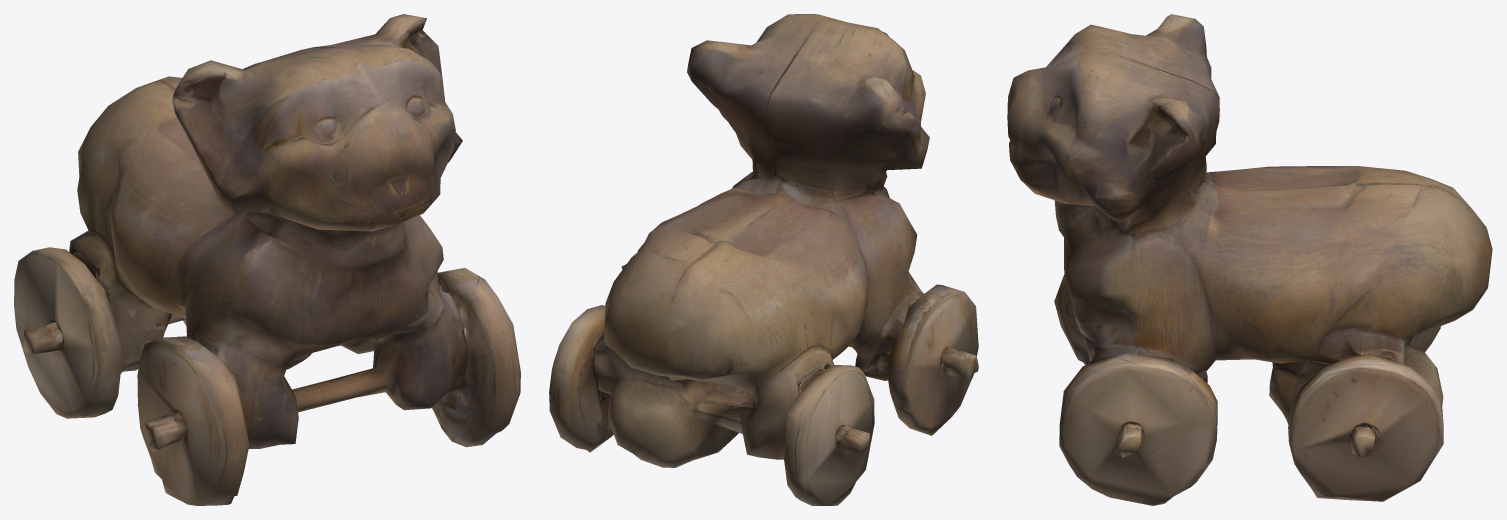
Rendered from Figura_con_ruedas.glb.
3 renders of one model, left to right at view 1: azimuth 30°, elevation 25°; view 2: azimuth 150°, elevation 25°; view 3: azimuth 270°, elevation 25°, orthographic. The views are drawn at different scales.
Parts seen in each view (by area): view 1: Mesh1.0; view 2: Mesh1.0; view 3: Mesh1.0.
Boxes of the visible parts, x1=… form: Mesh1.0: x1=14, y1=14, x2=520, y2=505; Mesh1.0: x1=549, y1=14, x2=978, y2=505; Mesh1.0: x1=1007, y1=14, x2=1492, y2=505.
Size of the model in its own units: 0.4454 by 0.5 by 0.5528.
1 material, 1 textured.
